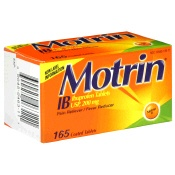grozi_18: (4, 31, 172, 143)
